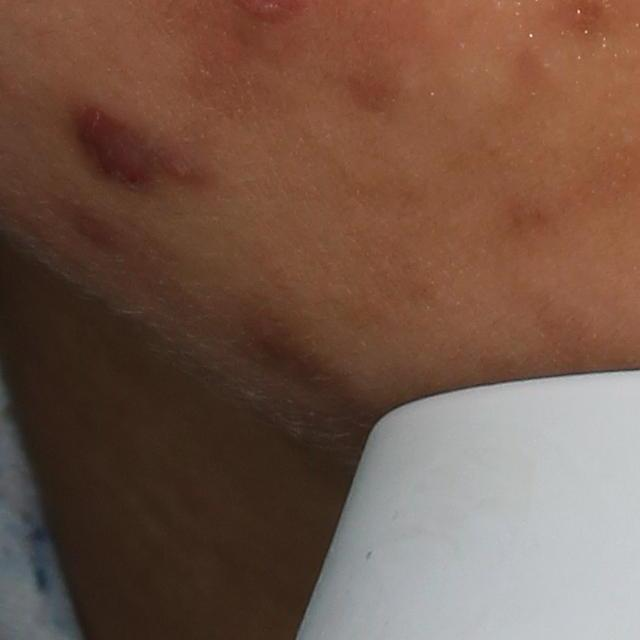papule: (81, 108, 158, 194)
